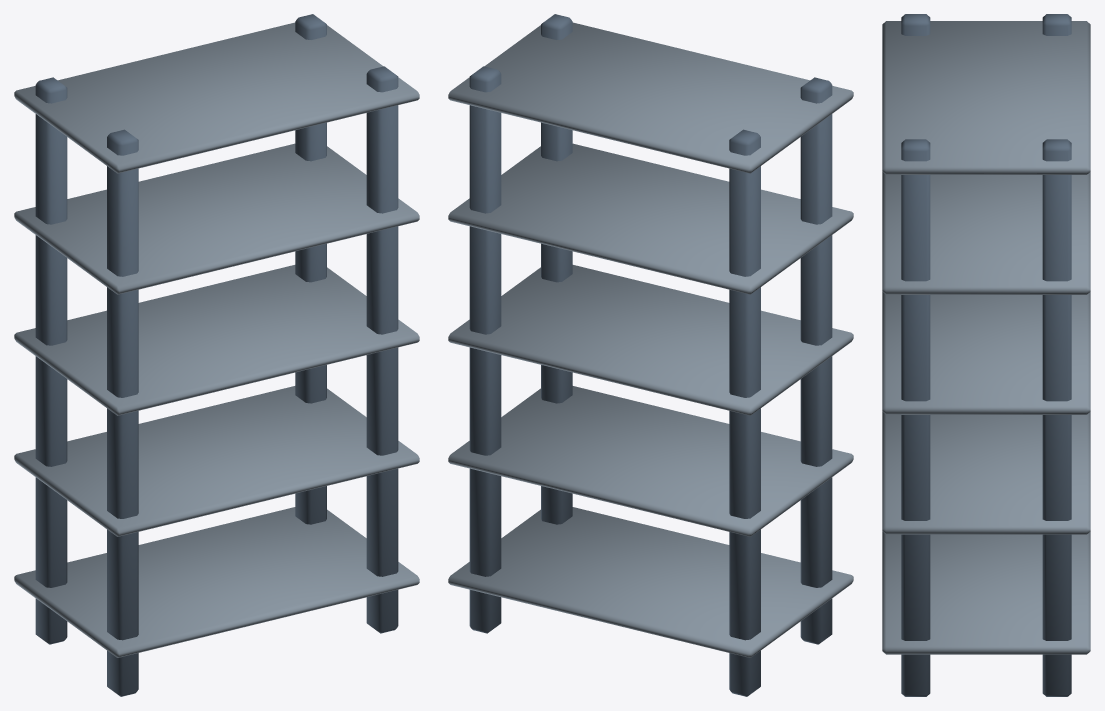
Rendered from Shelf-2.fbx.
3 renders of one model, left to right at view 1: azimuth 30°, elevation 25°; view 2: azimuth 150°, elevation 25°; view 3: azimuth 270°, elevation 25°, orthographic.
Visible parts, largest first — view 1: Shelf-2; view 2: Shelf-2; view 3: Shelf-2.
Part boxes in pixels (x1,y1,x2,y2): Shelf-2: (14, 14, 419, 696); Shelf-2: (448, 14, 853, 696); Shelf-2: (882, 14, 1090, 696).
Size of the model in its own units: 1 by 1.75 by 0.6.
